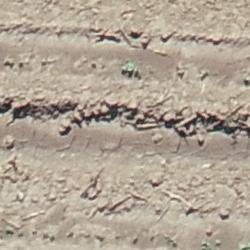cotton: (127, 61, 134, 69)
